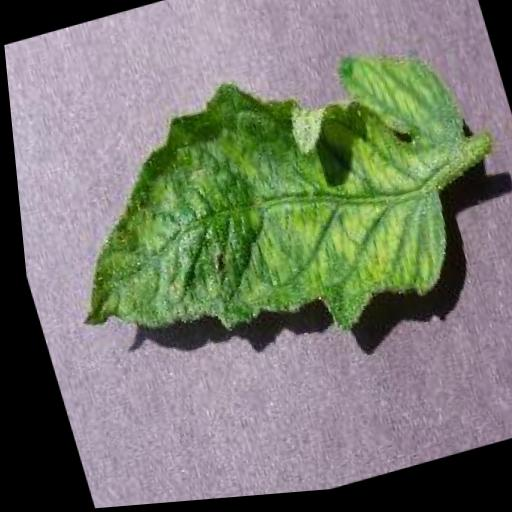Mosaic Virus: (20, 28, 508, 405)
